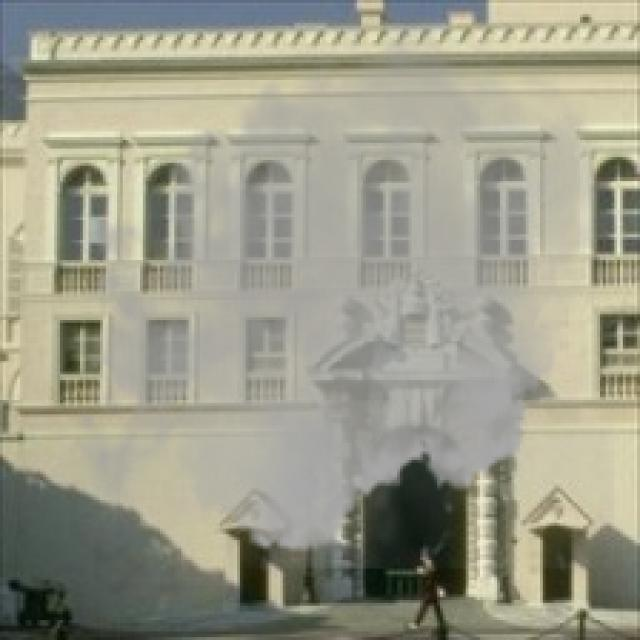smoke: (57, 3, 614, 568)
